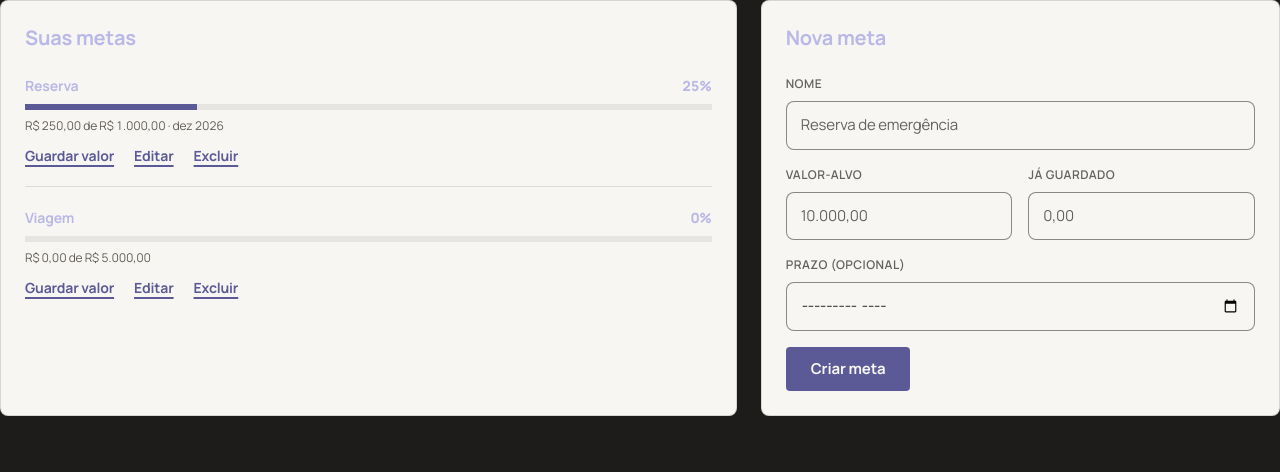
Test: GoalsPage › creates a goal from the form
Type "  Notebook " into the field labelled "Nome" at (1020, 125), box [786,101,1255,150]
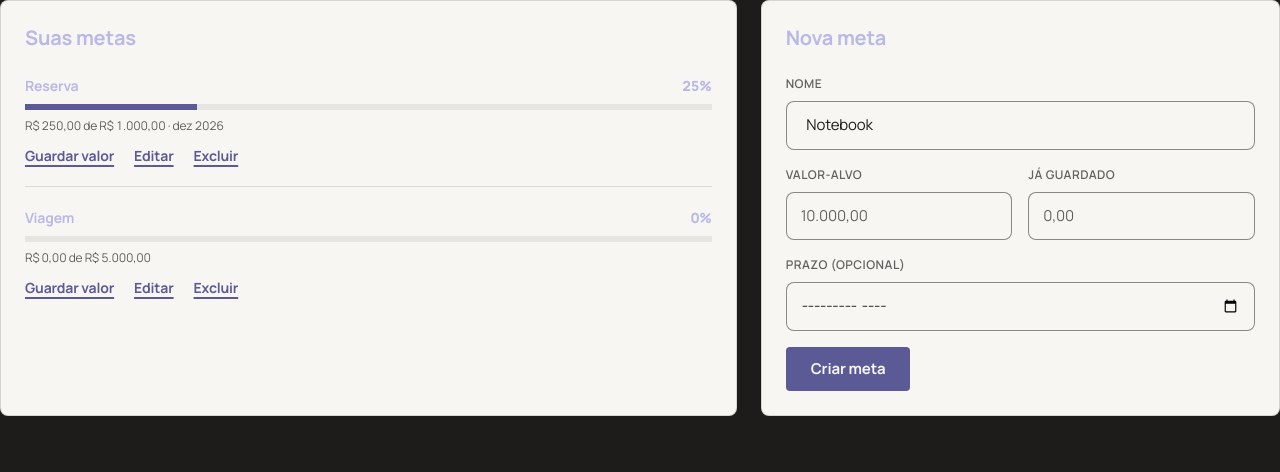
Type "7.500,50" into the field labelled "Valor-alvo" at (899, 216), box [786,192,1012,240]
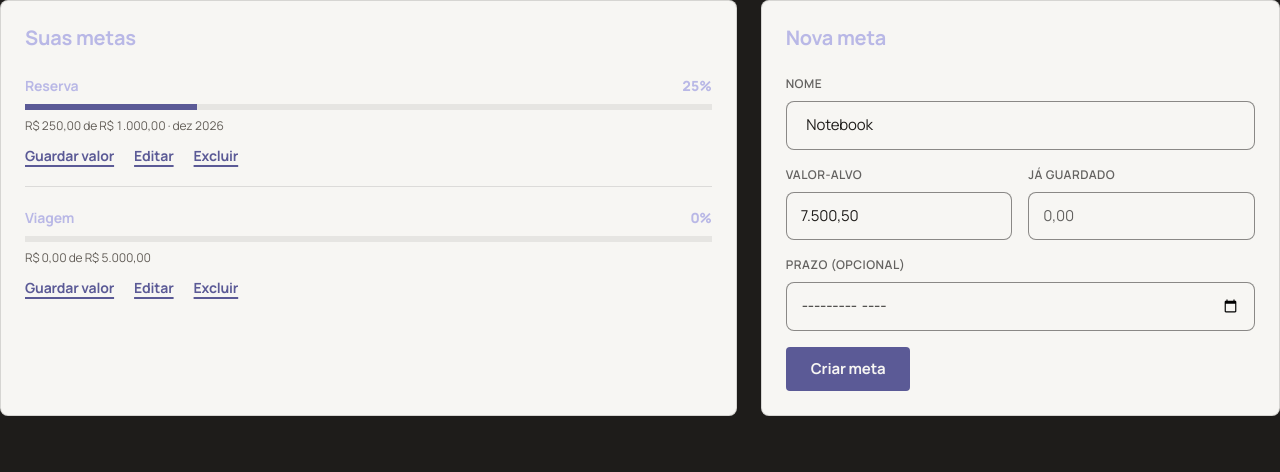
Type "100" into the field labelled "Já guardado" at (1142, 216), box [1028,192,1255,240]
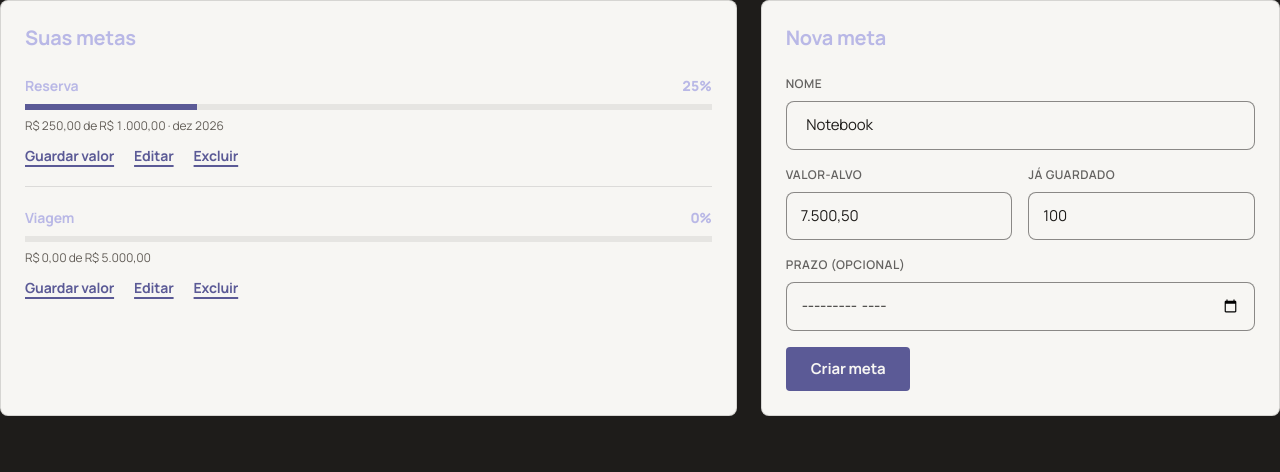
Type "2027-03" into the field labelled "Prazo (opcional)" at (1020, 306), box [786,282,1255,330]
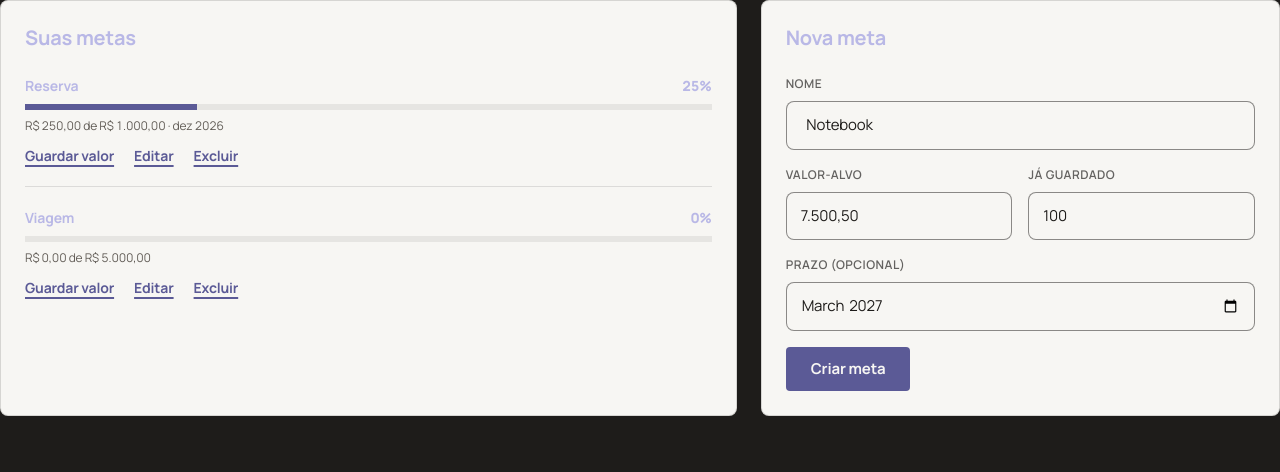
Click the button "Criar meta" at (848, 368), box [786,346,910,390]
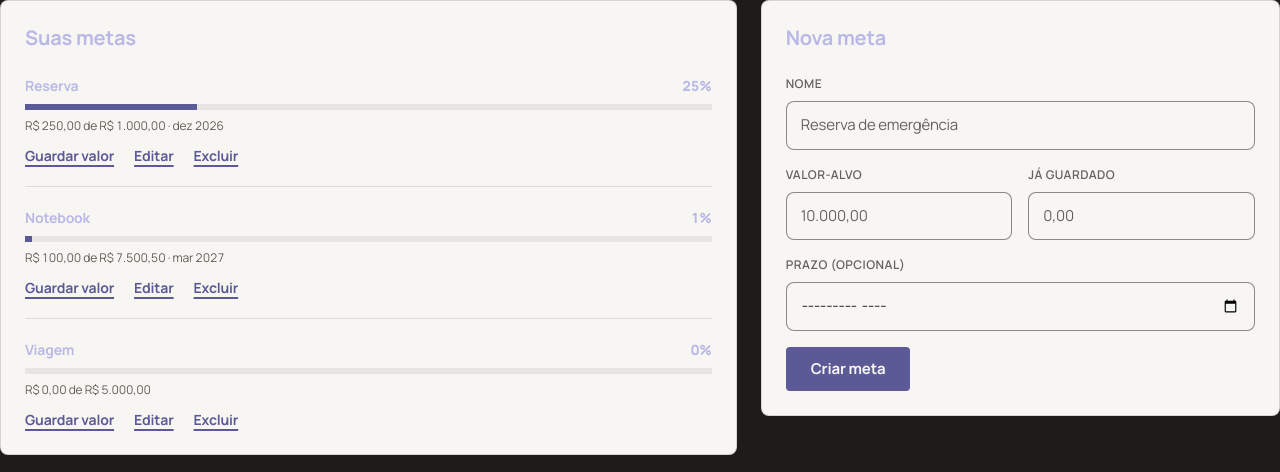
Now the progress indicator named "Notebook" is shown, box [25,236,712,242]
Now the field labelled "Nome" is empty, box [786,101,1255,150]
